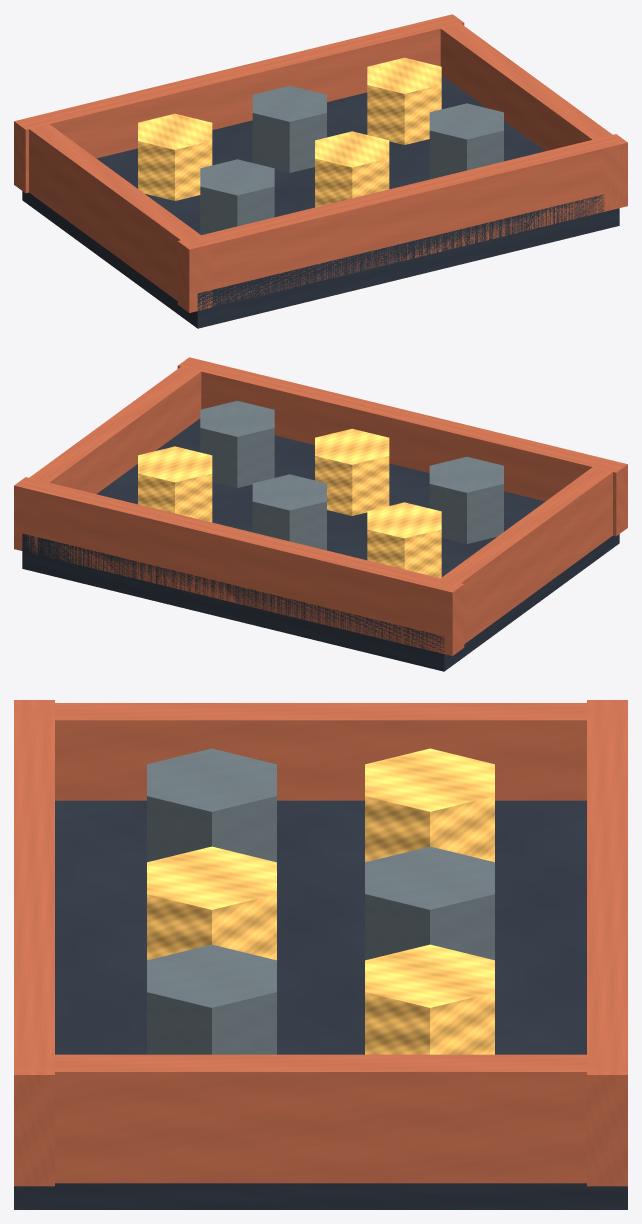
The model's file is atlas100-s021-a03.glb.
3 renders of one model, top to bottom at view 1: azimuth 30°, elevation 25°; view 2: azimuth 150°, elevation 25°; view 3: azimuth 270°, elevation 25°, orthographic. The views are drawn at different scales.
Parts seen in each view (by area): view 1: atlas100-s021-a03:part-002, atlas100-s021-a03:part-000, atlas100-s021-a03:part-001, atlas100-s021-a03:part-003, atlas100-s021-a03:part-004, atlas100-s021-a03:part-005, atlas100-s021-a03:part-007, atlas100-s021-a03:part-006, atlas100-s021-a03:part-010, atlas100-s021-a03:part-008, atlas100-s021-a03:part-009; view 2: atlas100-s021-a03:part-001, atlas100-s021-a03:part-000, atlas100-s021-a03:part-002, atlas100-s021-a03:part-003, atlas100-s021-a03:part-004, atlas100-s021-a03:part-008, atlas100-s021-a03:part-010, atlas100-s021-a03:part-009, atlas100-s021-a03:part-007, atlas100-s021-a03:part-005, atlas100-s021-a03:part-006; view 3: atlas100-s021-a03:part-000, atlas100-s021-a03:part-004, atlas100-s021-a03:part-003, atlas100-s021-a03:part-001, atlas100-s021-a03:part-002, atlas100-s021-a03:part-007, atlas100-s021-a03:part-010, atlas100-s021-a03:part-005, atlas100-s021-a03:part-008, atlas100-s021-a03:part-006, atlas100-s021-a03:part-009.
Boxes of the visible parts, x1,y1,x2,y2 form: atlas100-s021-a03:part-002: (177,134,627,312); atlas100-s021-a03:part-000: (22,75,619,328); atlas100-s021-a03:part-001: (14,14,464,193); atlas100-s021-a03:part-003: (29,124,212,311); atlas100-s021-a03:part-004: (430,15,624,211); atlas100-s021-a03:part-005: (138,113,212,200); atlas100-s021-a03:part-007: (367,57,441,144); atlas100-s021-a03:part-006: (252,85,326,172); atlas100-s021-a03:part-010: (429,103,503,179); atlas100-s021-a03:part-008: (200,159,274,235); atlas100-s021-a03:part-009: (315,131,389,207); atlas100-s021-a03:part-001: (14,477,464,655); atlas100-s021-a03:part-000: (22,418,619,671); atlas100-s021-a03:part-002: (177,357,627,536); atlas100-s021-a03:part-003: (429,467,612,654); atlas100-s021-a03:part-004: (17,358,211,554); atlas100-s021-a03:part-008: (429,456,503,543); atlas100-s021-a03:part-010: (200,400,274,487); atlas100-s021-a03:part-009: (315,428,389,515); atlas100-s021-a03:part-007: (138,446,212,522); atlas100-s021-a03:part-005: (367,502,441,578); atlas100-s021-a03:part-006: (252,474,326,550); atlas100-s021-a03:part-000: (14,800,627,1209); atlas100-s021-a03:part-004: (14,1054,627,1183); atlas100-s021-a03:part-003: (14,703,627,800); atlas100-s021-a03:part-001: (587,700,627,1186); atlas100-s021-a03:part-002: (14,700,54,1186); atlas100-s021-a03:part-007: (365,944,494,1054); atlas100-s021-a03:part-010: (147,944,276,1054); atlas100-s021-a03:part-005: (365,748,494,862); atlas100-s021-a03:part-008: (147,748,276,862); atlas100-s021-a03:part-006: (365,846,494,960); atlas100-s021-a03:part-009: (147,846,276,960).
Bounding box in the file's own units: 1.36 × 0.2563 × 0.9414.
4 materials, 4 textured.
